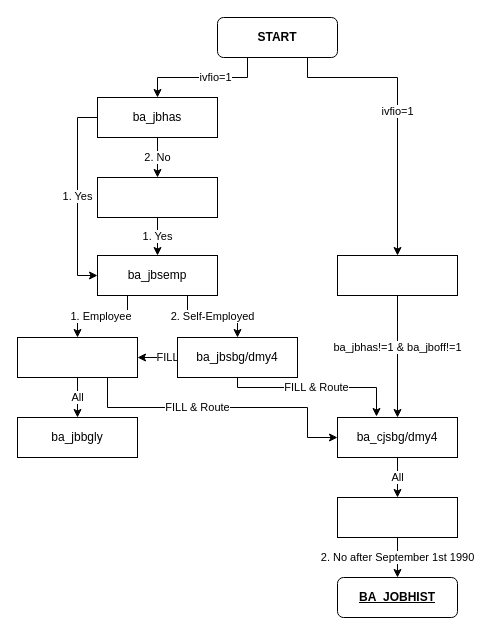
Some shapes in this 491 by 635 pixel diagram are drawn without their labels. The shapes that lost their labels are listed below. From the top down, each one's box as (x1, y1, x2, y2) in pixels, then its label:
(96, 176, 218, 218): ba_jboff
(336, 254, 458, 296): ba_jbstat_bh
(16, 336, 138, 378): ba_jbbg/dmy4
(336, 496, 458, 538): ba_cjsbly
